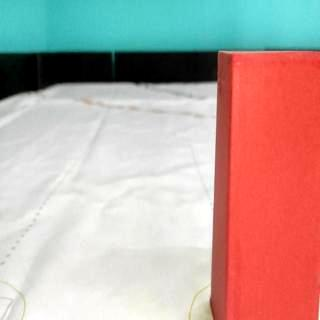redbox: (211, 47, 320, 320)
